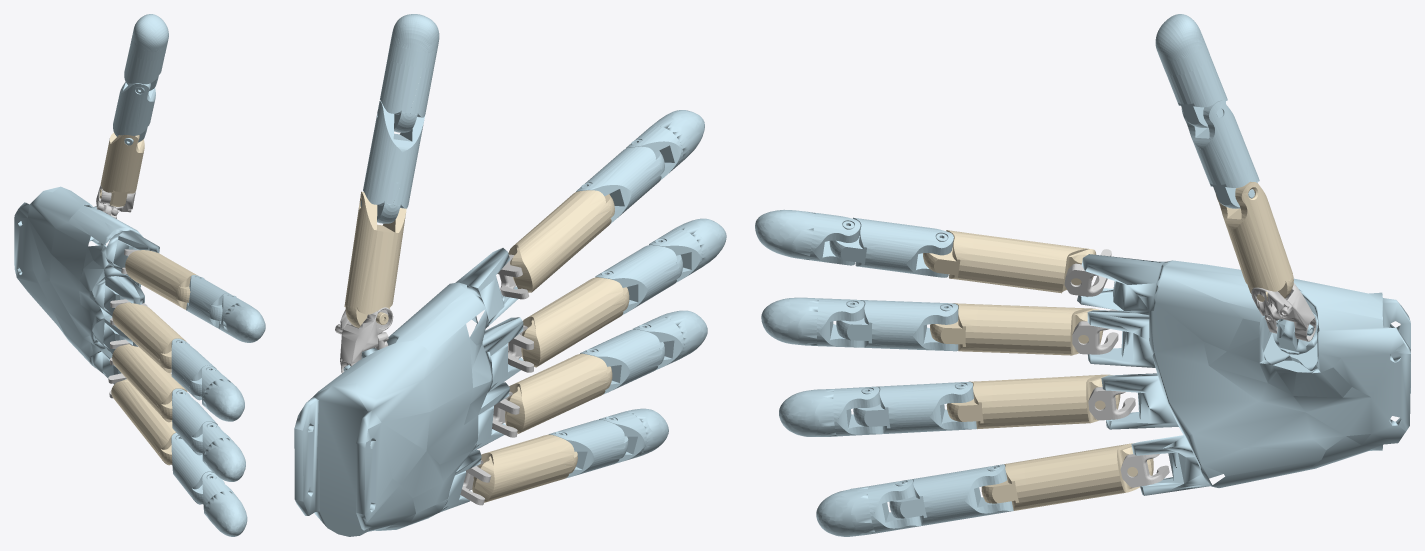
File: wuji-right-overview.glb
3 views of the same model, side by side, from view 1: azimuth 30°, elevation 25°; view 2: azimuth 150°, elevation 25°; view 3: azimuth 270°, elevation 25° (orthographic). The views are drawn at different scales.
Visible parts, largest first — view 1: right_palm_link_visual, right_finger4_link2_visual, right_finger3_link2_visual, right_finger2_link2_visual, right_finger1_link2_visual, right_finger5_link2_visual, right_finger1_link3_visual, right_finger4_link3_visual, right_finger5_link3_visual, right_finger3_link3_visual, right_finger1_tip_link_visual, right_finger5_tip_link_visual (+10 smaller); view 2: right_palm_link_visual, right_finger2_link2_visual, right_finger1_link2_visual, right_finger3_link2_visual, right_finger4_link2_visual, right_finger5_link2_visual, right_finger1_link3_visual, right_finger2_link3_visual, right_finger3_link3_visual, right_finger4_link3_visual, right_finger1_link4_visual, right_finger5_link3_visual (+14 smaller); view 3: right_palm_link_visual, right_finger2_link2_visual, right_finger5_link2_visual, right_finger3_link2_visual, right_finger4_link2_visual, right_finger1_link2_visual, right_finger2_link3_visual, right_finger3_link3_visual, right_finger4_link3_visual, right_finger5_link3_visual, right_finger1_link3_visual, right_finger1_tip_link_visual (+14 smaller).
Part boxes in pixels (x1,y1,x2,y2): right_palm_link_visual: (14, 186, 159, 384); right_finger4_link2_visual: (112, 344, 187, 422); right_finger3_link2_visual: (112, 302, 186, 372); right_finger2_link2_visual: (125, 250, 198, 309); right_finger1_link2_visual: (99, 132, 144, 206); right_finger5_link2_visual: (111, 379, 176, 465); right_finger1_link3_visual: (113, 82, 155, 145); right_finger4_link3_visual: (172, 388, 217, 455); right_finger5_link3_visual: (171, 433, 224, 504); right_finger3_link3_visual: (171, 338, 216, 400); right_finger1_tip_link_visual: (130, 14, 168, 60); right_finger5_tip_link_visual: (205, 491, 247, 536); right_palm_link_visual: (294, 248, 523, 536); right_finger2_link2_visual: (508, 190, 614, 292); right_finger1_link2_visual: (344, 191, 406, 327); right_finger3_link2_visual: (521, 277, 629, 367); right_finger4_link2_visual: (505, 353, 612, 433); right_finger5_link2_visual: (472, 434, 577, 502); right_finger1_link3_visual: (360, 101, 425, 223); right_finger2_link3_visual: (576, 146, 664, 223); right_finger3_link3_visual: (595, 245, 682, 314); right_finger4_link3_visual: (580, 329, 664, 394); right_finger1_link4_visual: (377, 59, 433, 132); right_finger5_link3_visual: (548, 419, 628, 478); right_palm_link_visual: (1077, 254, 1410, 495); right_finger2_link2_visual: (923, 230, 1096, 293); right_finger5_link2_visual: (981, 443, 1153, 510); right_finger3_link2_visual: (930, 303, 1103, 355); right_finger4_link2_visual: (946, 374, 1120, 429); right_finger1_link2_visual: (1216, 181, 1293, 301); right_finger2_link3_visual: (829, 217, 953, 277); right_finger3_link3_visual: (836, 300, 958, 351); right_finger4_link3_visual: (853, 382, 976, 433); right_finger5_link3_visual: (889, 464, 1013, 525); right_finger1_link3_visual: (1181, 101, 1259, 208); right_finger1_tip_link_visual: (1155, 14, 1209, 75).
Size of the model in its own units: 0.0497 by 0.1896 by 0.2056.
